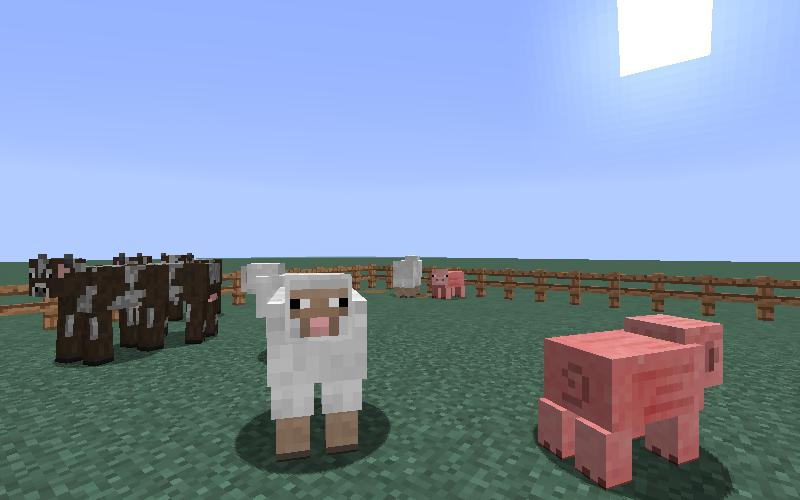cow: (26, 250, 172, 373)
pig: (534, 310, 729, 500), (428, 269, 466, 301)
sheep: (257, 267, 373, 464), (388, 256, 426, 297)
